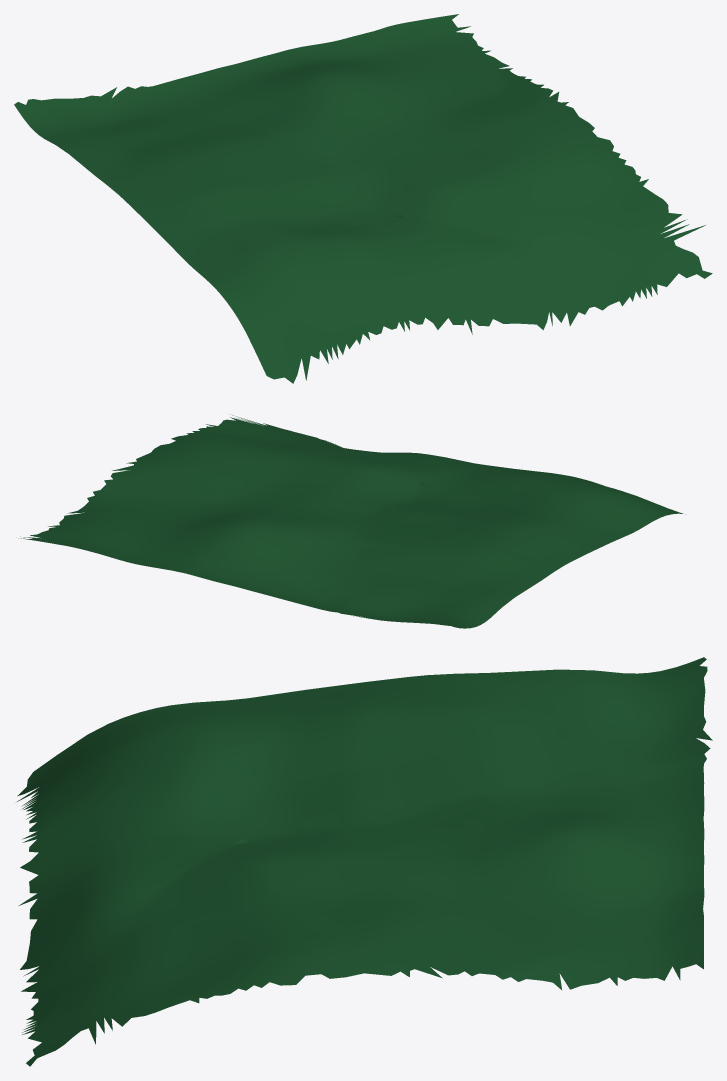
File: payo_land_xm4_y0_lod1.glb
The picture shows the model from 3 angles, top to bottom: view 1: azimuth 30°, elevation 25°; view 2: azimuth 150°, elevation 25°; view 3: azimuth 270°, elevation 25°; orthographic projection. The views are drawn at different scales.
Parts seen in each view (by area): view 1: payo_land_xm4_y0; view 2: payo_land_xm4_y0; view 3: payo_land_xm4_y0.
Boxes of the visible parts, box(x1,y1,x2,y2) form: payo_land_xm4_y0: box(14, 14, 712, 383); payo_land_xm4_y0: box(18, 415, 683, 628); payo_land_xm4_y0: box(17, 657, 712, 1066).
Size of the model in its own units: 271 by 59.72 by 266.
